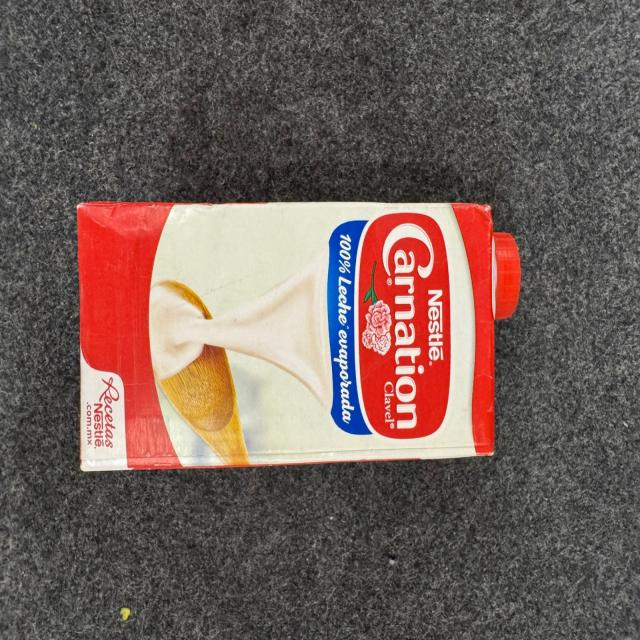CARNATION Leche Evaporada 720g: (77, 200, 526, 472)
